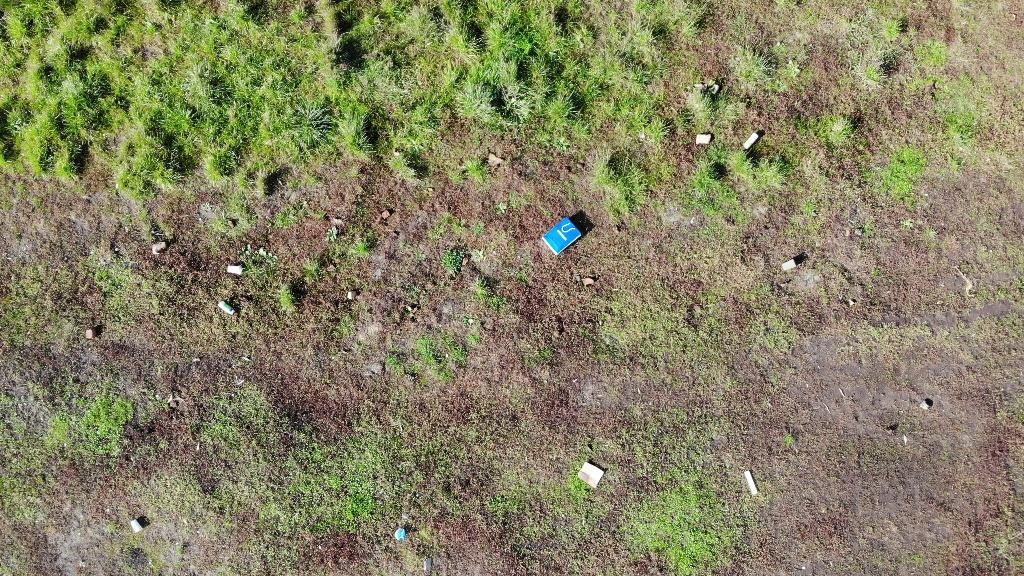garbage: (539, 218, 585, 258), (576, 462, 611, 488), (228, 261, 243, 278), (220, 302, 235, 318)
